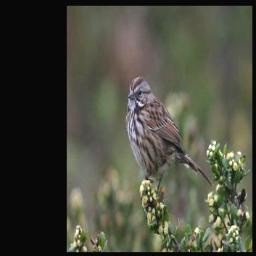Sparrow: (123, 75, 214, 204)
